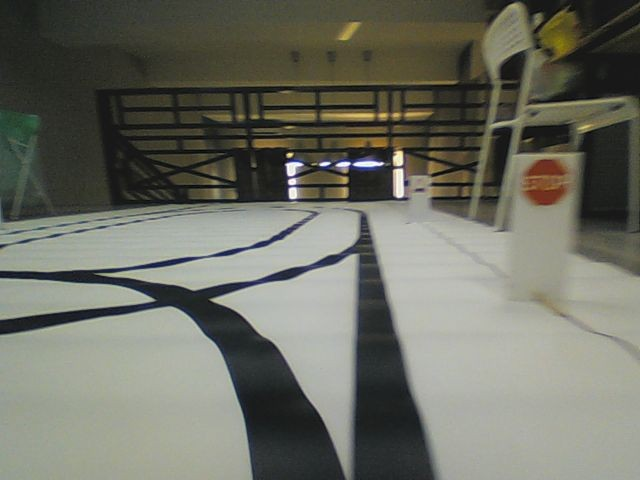Stop: (520, 157, 572, 206)
